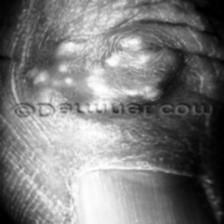Unclassified: (42, 20, 204, 104)
